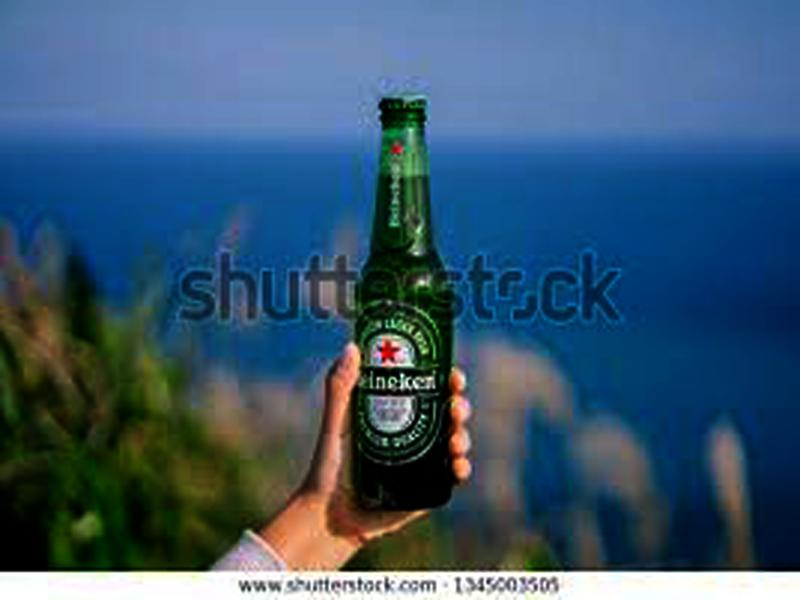Beer: (352, 96, 451, 511)
